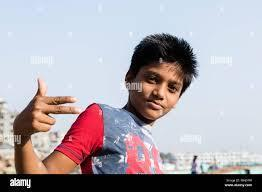Human: (34, 18, 203, 190)
